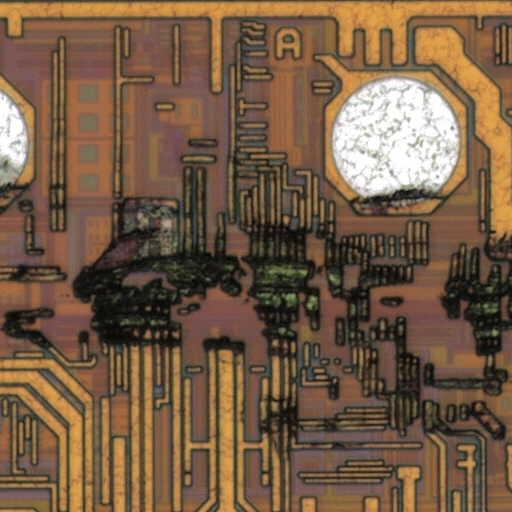SCRATCH: (1, 177, 512, 456)
